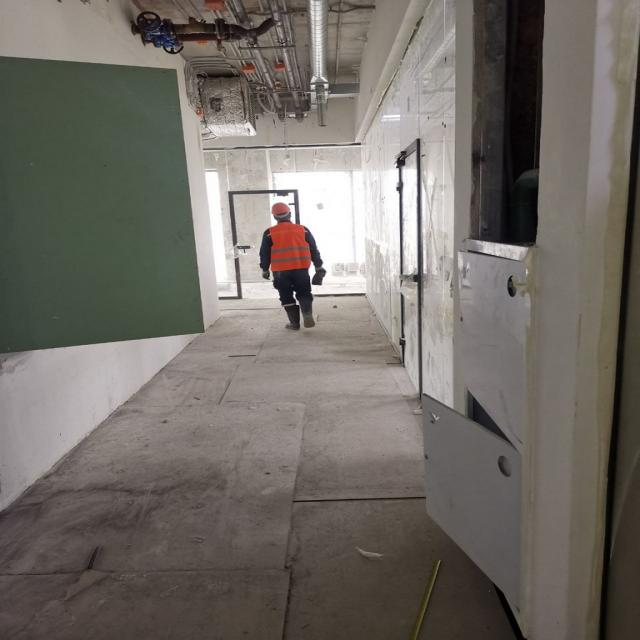Helmet: (273, 203, 293, 217)
Jacket: (272, 219, 308, 274)
